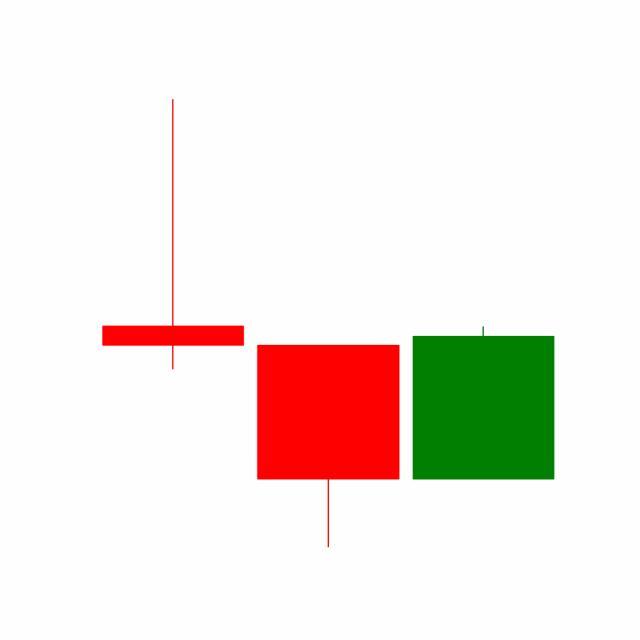Marubozu: (405, 324, 561, 481)
